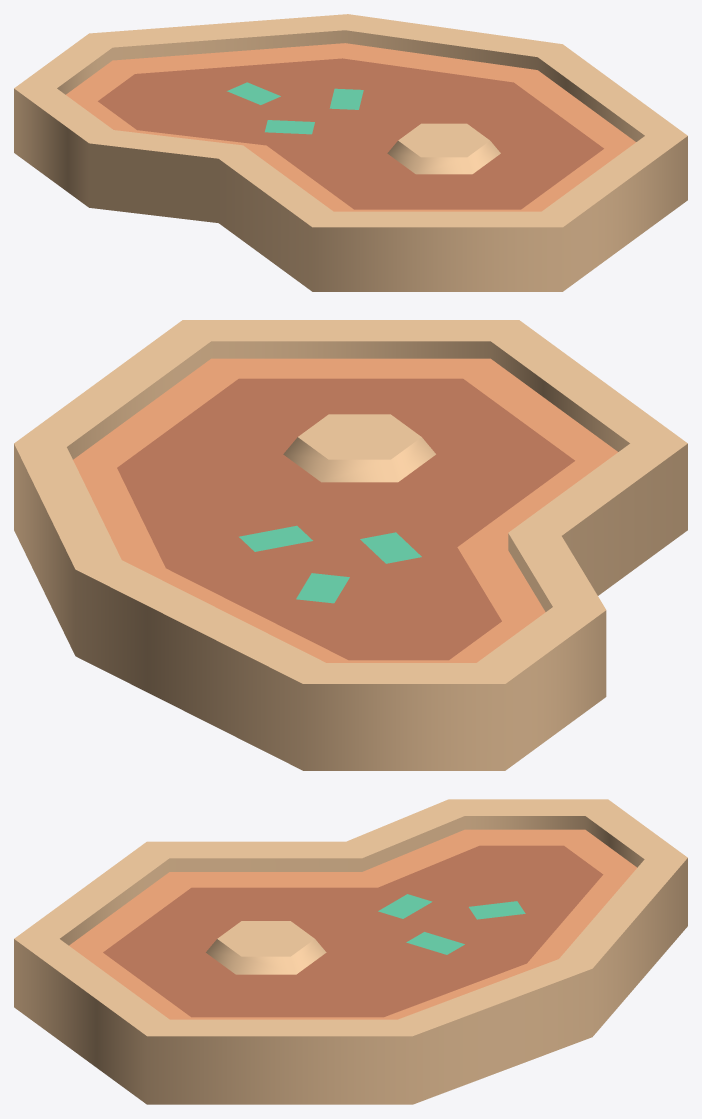
File: meatCooked.GLB
3 views of the same model, one above another, from view 1: azimuth 30°, elevation 25°; view 2: azimuth 150°, elevation 25°; view 3: azimuth 270°, elevation 25° (orthographic). The views are drawn at different scales.
Parts seen in each view (by area): view 1: meatCooked; view 2: meatCooked; view 3: meatCooked.
Boxes of the visible parts, box(x1,y1,x2,y2) form: meatCooked: box(14, 14, 687, 291); meatCooked: box(14, 320, 687, 770); meatCooked: box(14, 799, 687, 1104).
Size of the model in its own units: 0.4785 by 0.0645 by 0.5754.
